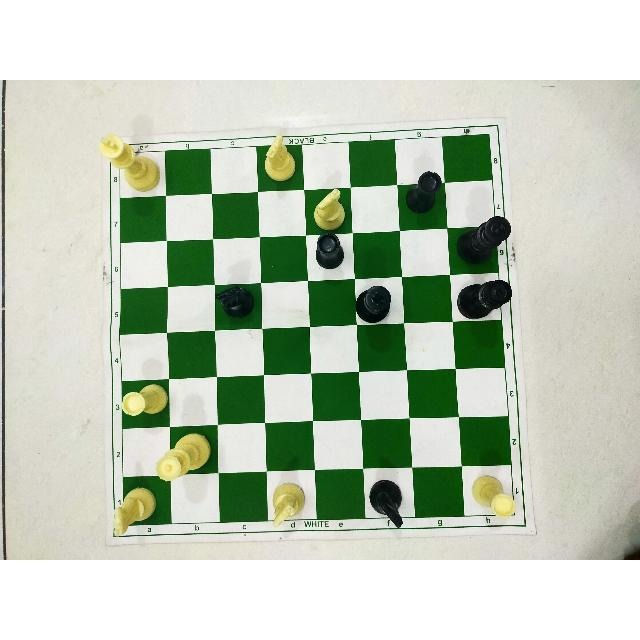black-king: (451, 214, 515, 270), (355, 277, 396, 325)
black-knight: (368, 467, 410, 531), (209, 278, 256, 320)
black-queen: (455, 273, 514, 328)
black-rook: (401, 165, 445, 220), (312, 231, 350, 275)
white-king: (94, 127, 165, 194)
white-knight: (112, 485, 153, 543), (259, 131, 301, 187), (267, 479, 309, 534), (304, 187, 348, 235)
white-queen: (156, 423, 220, 488)
white-rook: (466, 472, 521, 524), (116, 375, 170, 423)
